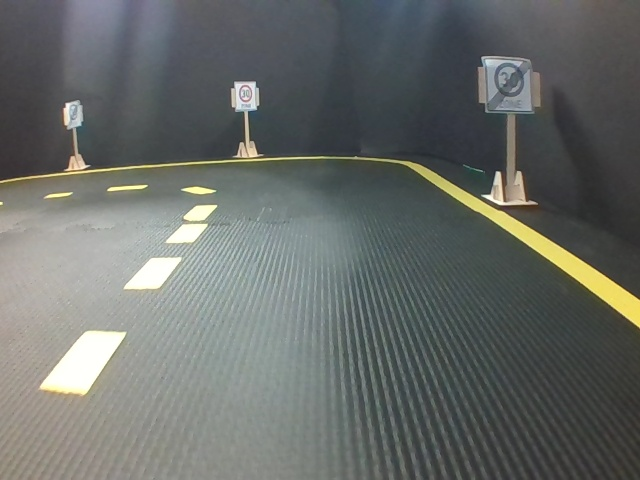30: (236, 83, 255, 111)
no30: (488, 58, 535, 113), (65, 100, 81, 125)
